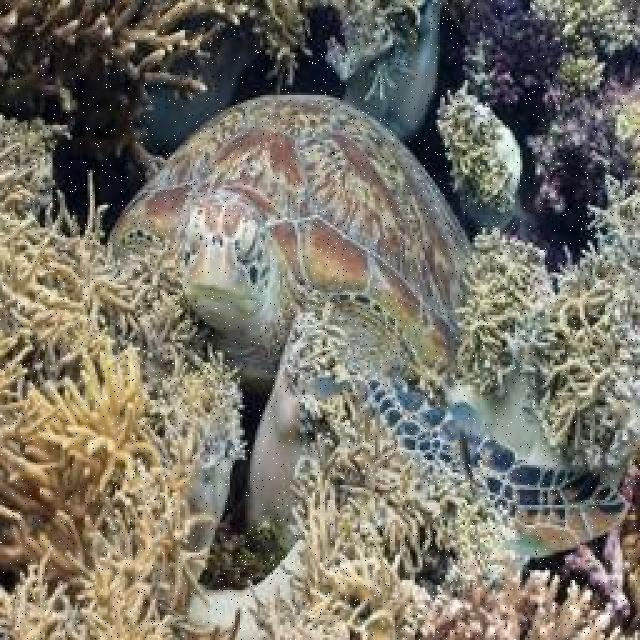fish: (110, 93, 638, 548)
reefs: (0, 0, 230, 181)
